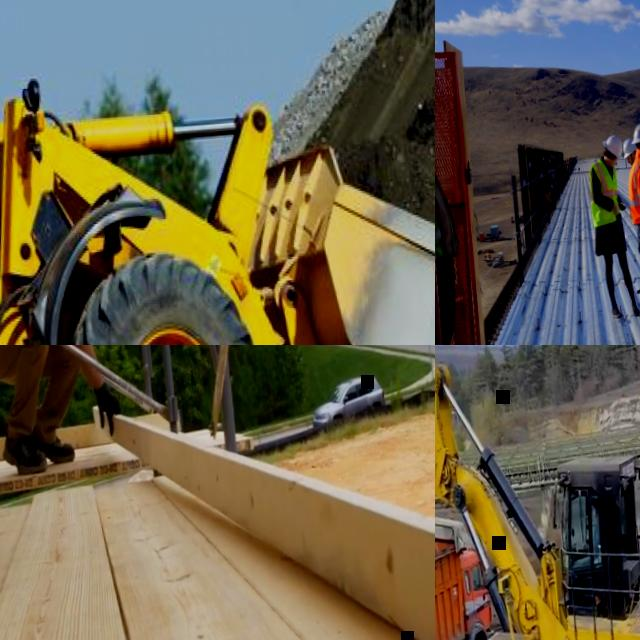Hardhat: (602, 131, 627, 159), (622, 134, 638, 160), (630, 119, 640, 145)
NO-Mask: (627, 155, 634, 165), (608, 160, 616, 168)
NO-Safety Vest: (591, 513, 603, 548)
Person: (0, 345, 134, 480), (585, 130, 640, 318), (435, 106, 477, 345), (623, 120, 640, 336), (566, 505, 607, 583), (620, 136, 640, 294)
Safety Vest: (435, 156, 463, 263), (588, 158, 623, 226), (625, 147, 640, 233)
vehicle: (0, 0, 435, 345), (435, 345, 640, 640), (309, 372, 388, 427)
